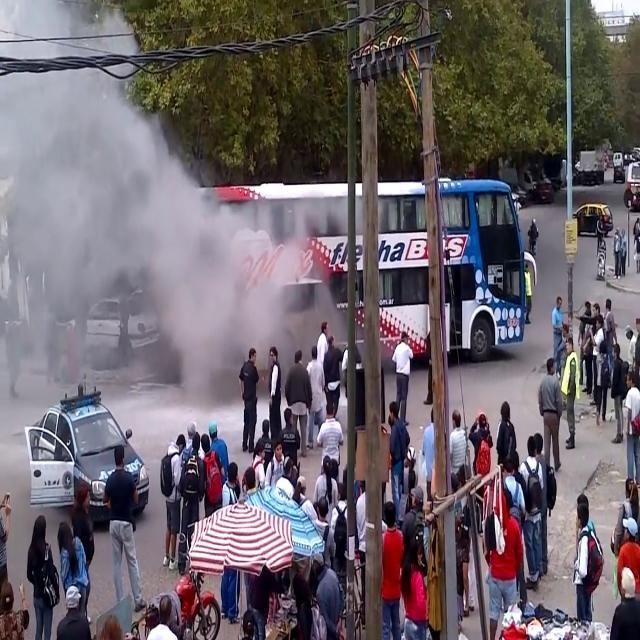Smoke: (0, 19, 298, 432)
